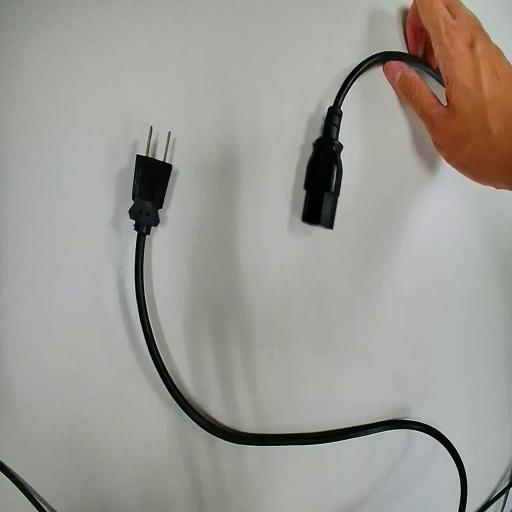wire: (130, 155, 466, 511), (302, 27, 443, 227)
